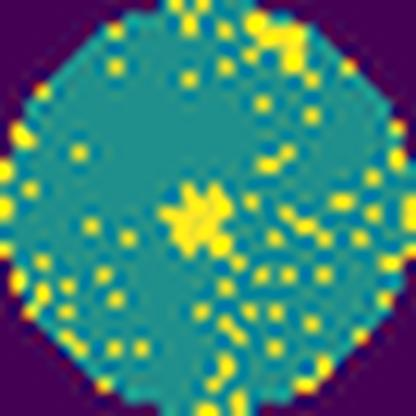Center: (152, 176, 242, 264)
